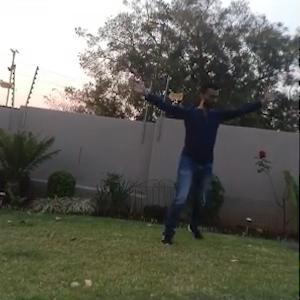takeoff: (125, 64, 274, 256)
